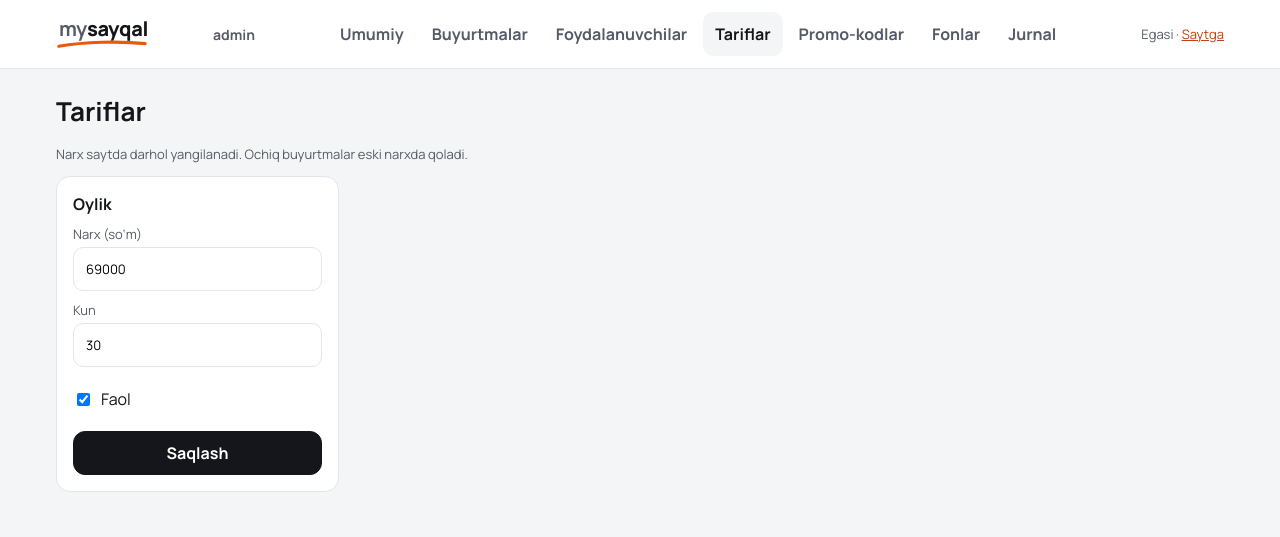
it: admin panel › tarif narxini oʻzgartirish
Replace the text in the field labelled "Narx (so‘m)" with "79 000" at [198, 269], box [73, 247, 322, 291]
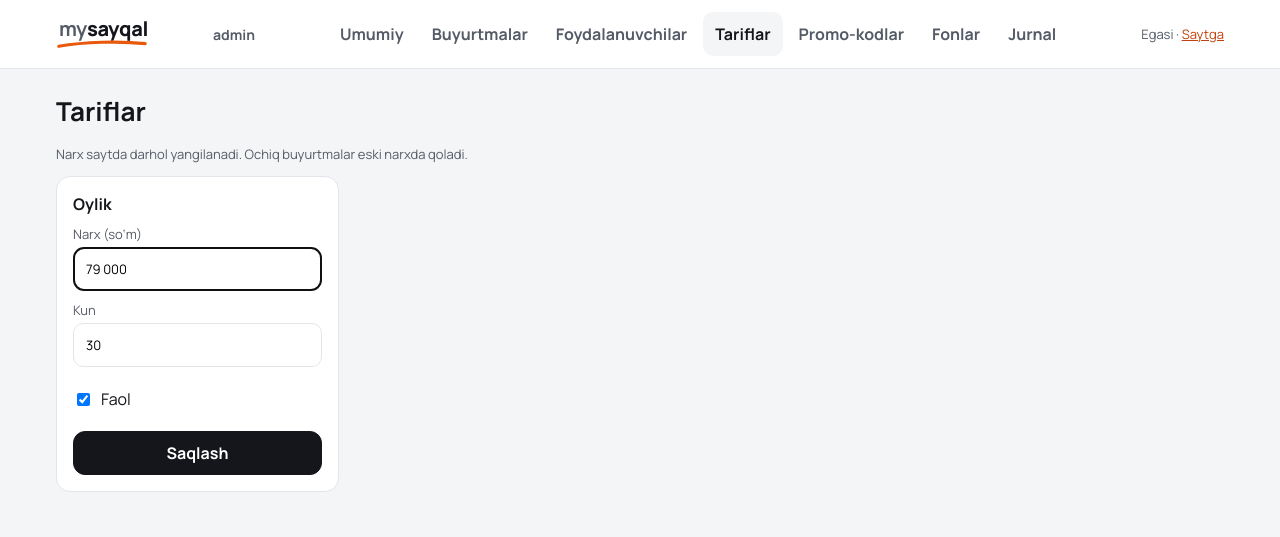
Click the button "Saqlash".
click(198, 453)  # box [73, 431, 322, 475]
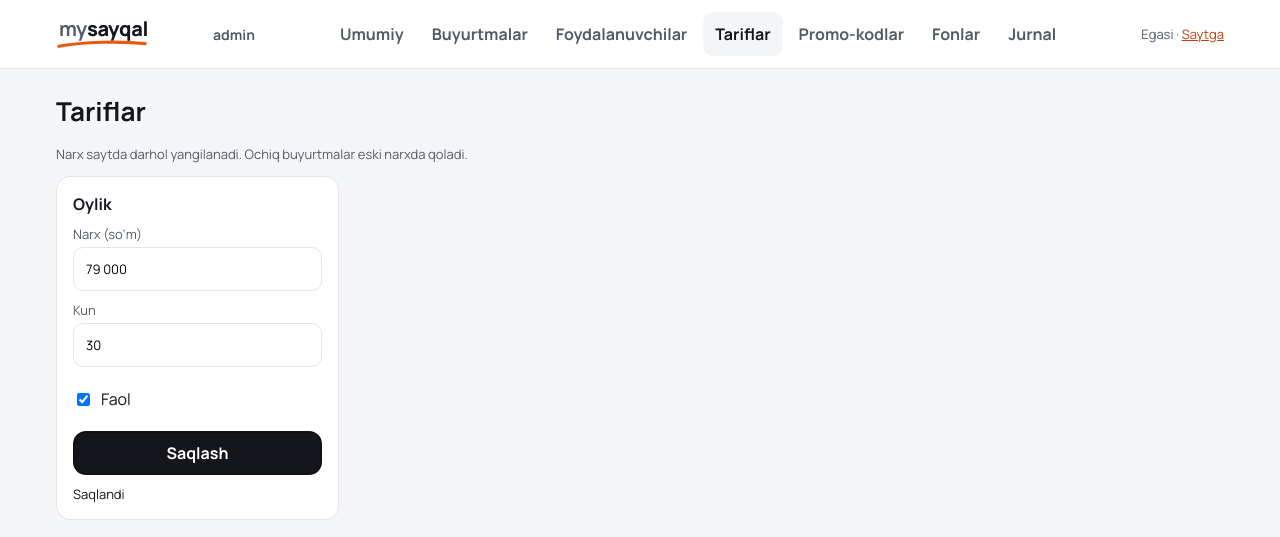
Result: the message reads "Saqlandi" at [73, 485, 125, 503]
